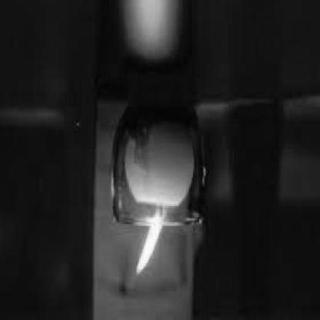Fire: (132, 200, 172, 281)
